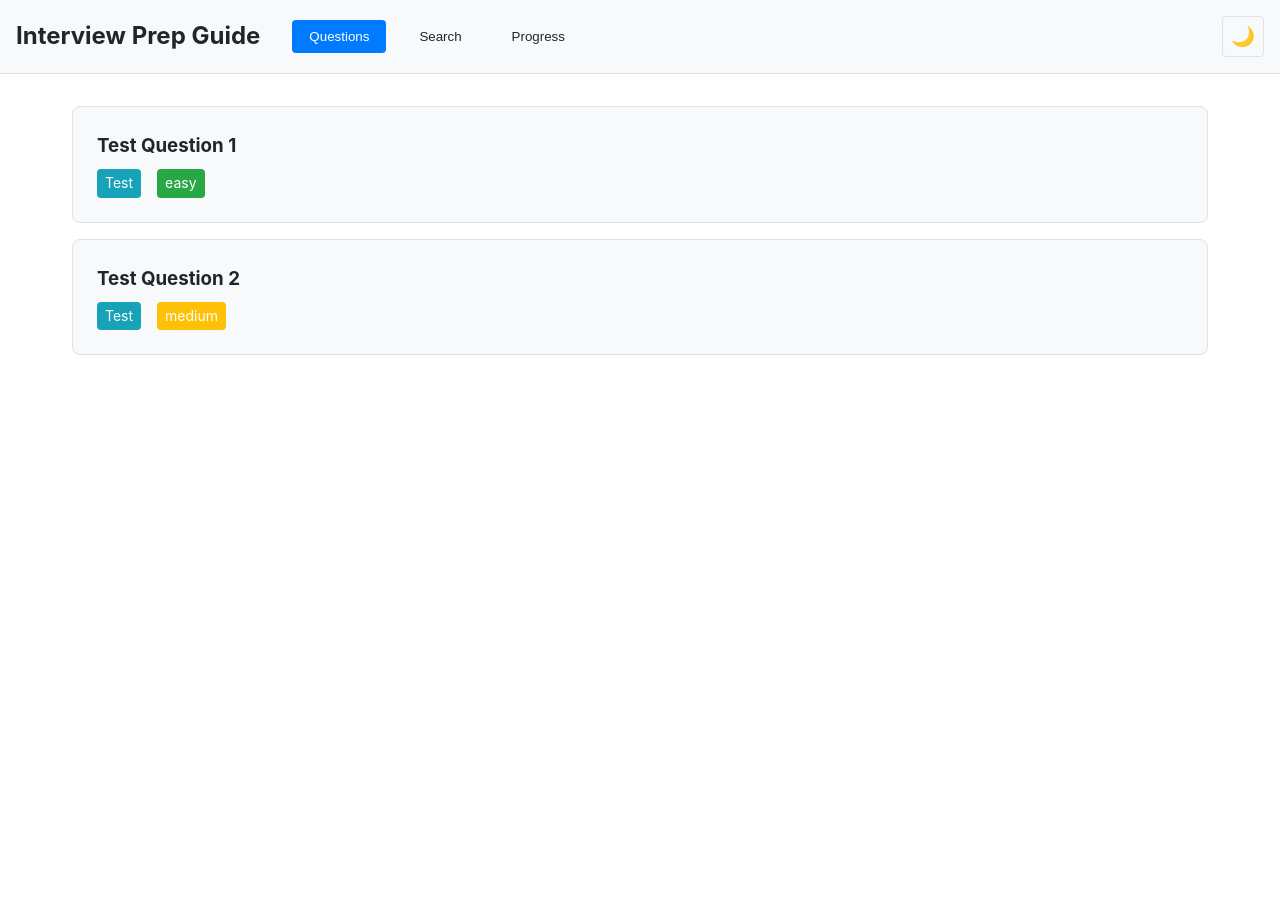
Test: App › question interaction › should show question modal when clicked
Click the element showing "Test Question 1 Test easy" at (640, 164), box [72, 106, 1208, 223]
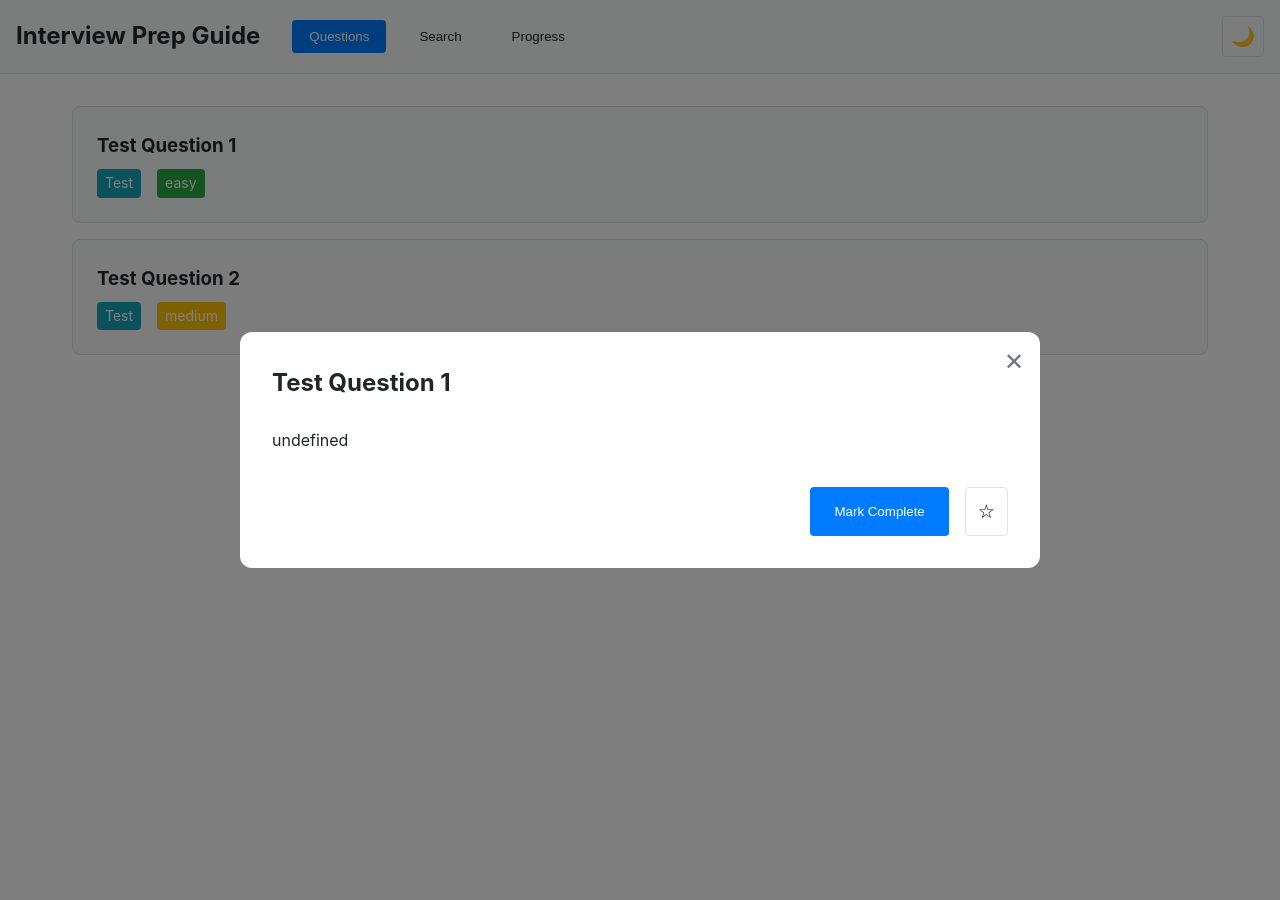
Now the element showing "✕ Test Question 1 undefined Mark Complete ☆" is shown
